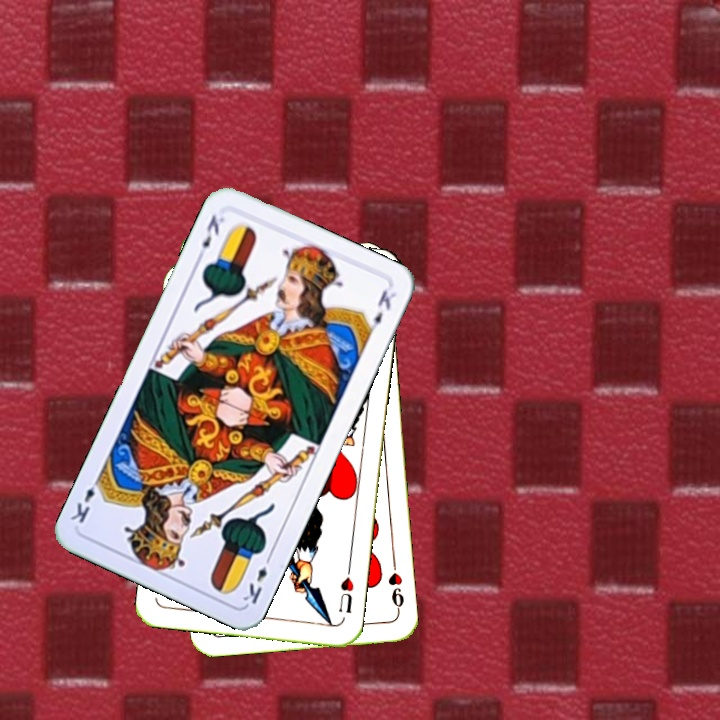EK: (239, 550, 275, 607), (192, 210, 227, 264)
H9: (384, 556, 407, 615)
HU: (335, 563, 357, 616)
